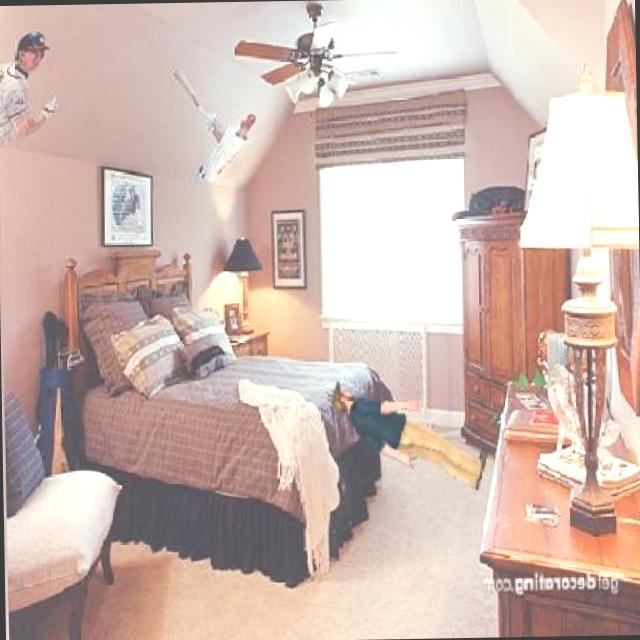Person: (326, 370, 487, 498)
